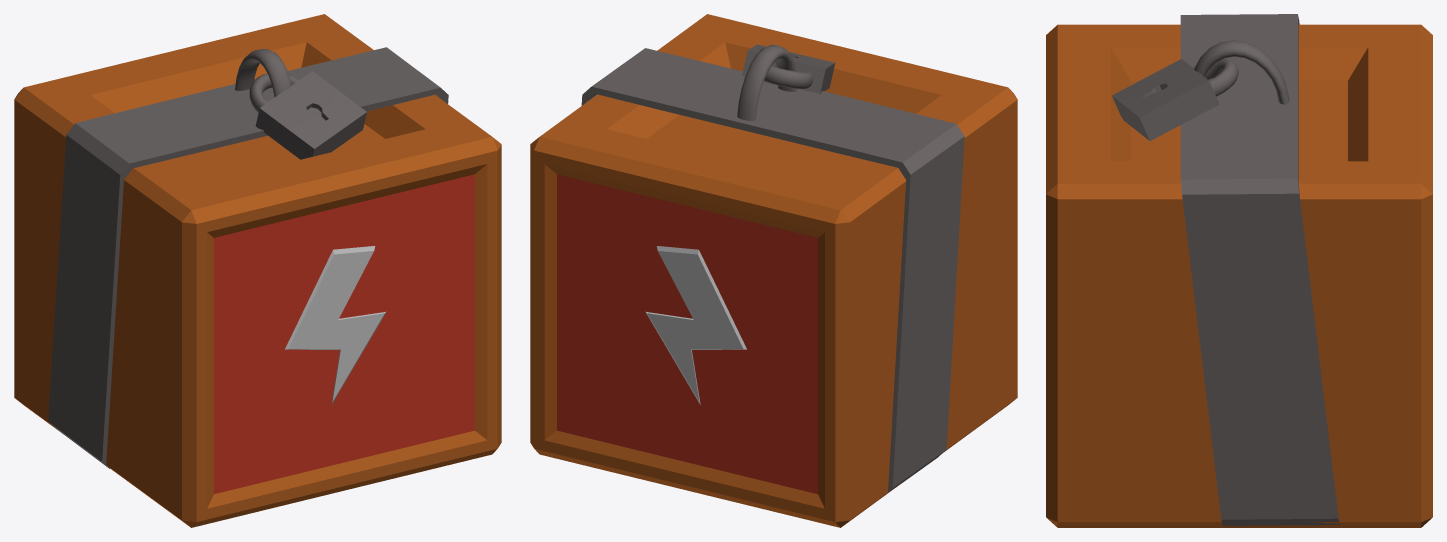
The picture shows the model from 3 angles, left to right: view 1: azimuth 30°, elevation 25°; view 2: azimuth 150°, elevation 25°; view 3: azimuth 270°, elevation 25°; orthographic projection. The views are drawn at different scales.
Visible parts, largest first — view 1: Box002, 对象002, Torus002, Box003, 对象001; view 2: Box002, 对象002, Torus002, 对象001, Box003; view 3: Box002, Torus002, Box003.
Part boxes in pixels (x1=…): Box002: x1=14, y1=14, x2=501, y2=527; 对象002: x1=214, y1=174, x2=474, y2=494; Torus002: x1=48, y1=47, x2=448, y2=468; Box003: x1=249, y1=71, x2=366, y2=159; 对象001: x1=285, y1=246, x2=386, y2=404; Box002: x1=530, y1=14, x2=1017, y2=527; 对象002: x1=557, y1=174, x2=817, y2=494; Torus002: x1=581, y1=45, x2=964, y2=495; 对象001: x1=645, y1=246, x2=746, y2=404; Box003: x1=742, y1=44, x2=835, y2=93; Box002: x1=1046, y1=24, x2=1432, y2=527; Torus002: x1=1180, y1=14, x2=1339, y2=525; Box003: x1=1112, y1=59, x2=1238, y2=140.
Bounding box in the file's own units: 49.02 × 53.96 × 46.13.
